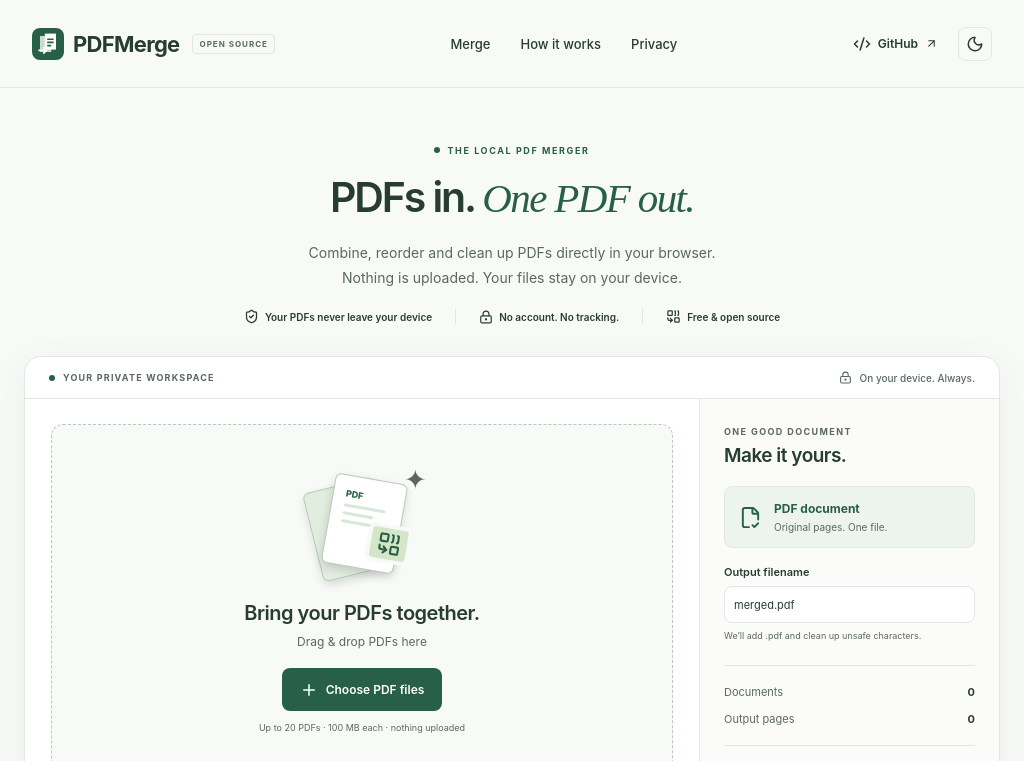
Scenario: toggles theme using a labeled control
The image size is (1024, 761).
Click the button named "Switch to dark mode".
click(975, 44)  # box [958, 26, 992, 60]
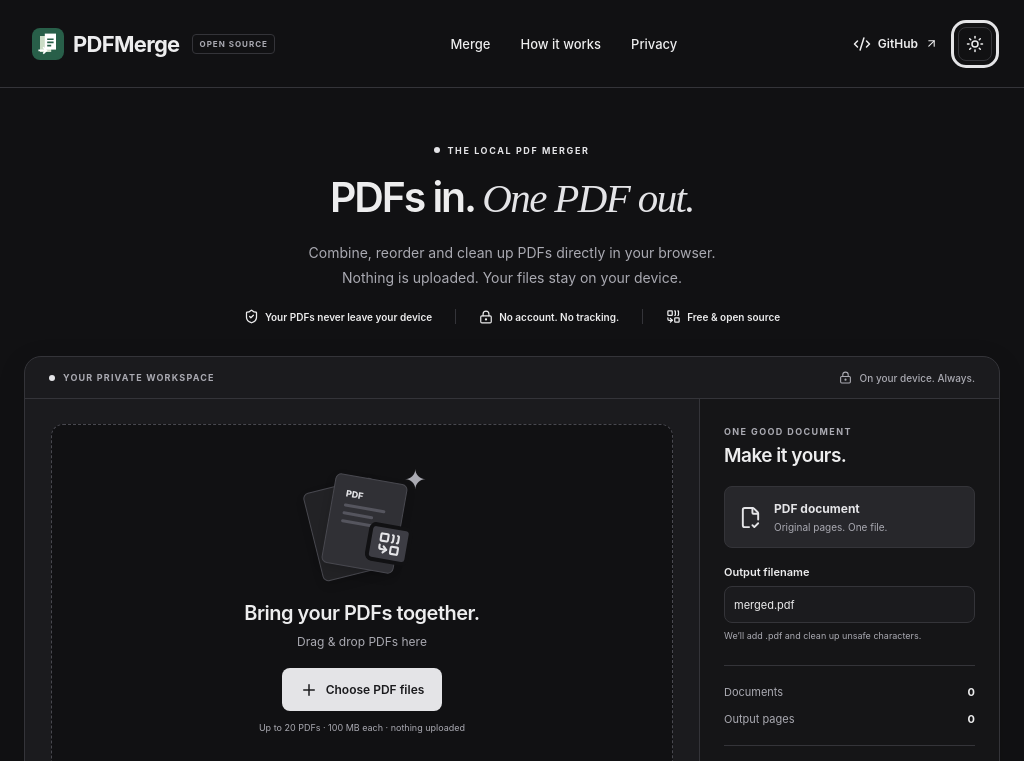
Expected: the button named "Switch to light mode" is shown, [958, 26, 992, 60]
